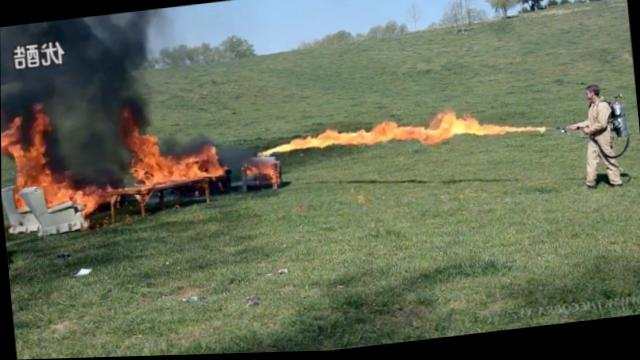fire: (130, 132, 162, 189), (28, 102, 53, 155), (17, 154, 51, 187), (1, 112, 24, 159), (44, 180, 85, 206), (81, 186, 111, 212), (180, 154, 208, 181), (424, 122, 453, 147), (205, 145, 226, 179), (159, 153, 182, 183), (374, 121, 400, 145), (442, 113, 466, 138), (394, 124, 423, 143), (290, 137, 317, 152), (463, 117, 482, 138), (357, 129, 376, 148), (245, 163, 270, 176), (508, 127, 538, 137), (13, 188, 26, 210), (341, 132, 358, 147), (325, 130, 340, 147), (268, 168, 280, 187), (482, 124, 498, 137), (315, 133, 326, 148), (260, 149, 275, 158), (277, 145, 291, 154), (498, 127, 509, 138), (537, 128, 546, 136)
